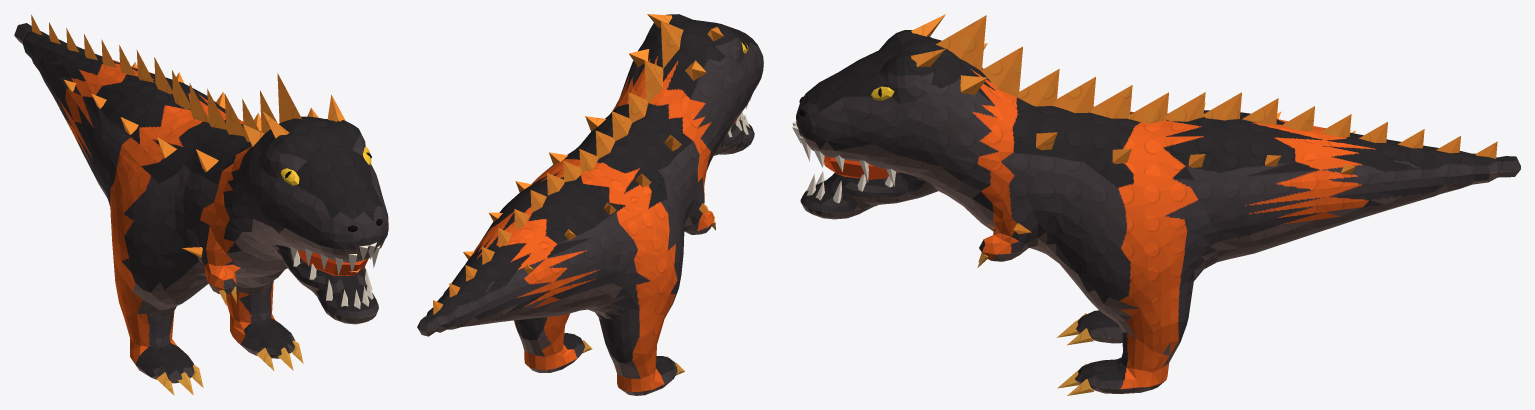
File: trex_lave.glb
The picture shows the model from 3 angles, left to right: view 1: azimuth 30°, elevation 25°; view 2: azimuth 150°, elevation 25°; view 3: azimuth 270°, elevation 25°; orthographic projection. The views are drawn at different scales.
Parts seen in each view (by area): view 1: TRex; view 2: TRex; view 3: TRex.
Boxes of the visible parts, x1,y1,x2,y2 form: TRex: (14, 14, 388, 395); TRex: (417, 14, 763, 395); TRex: (792, 14, 1520, 395).
Bounding box in the file's own units: 3.2 × 6.1 × 11.55.
Materials: 1 (1 with a texture image).
